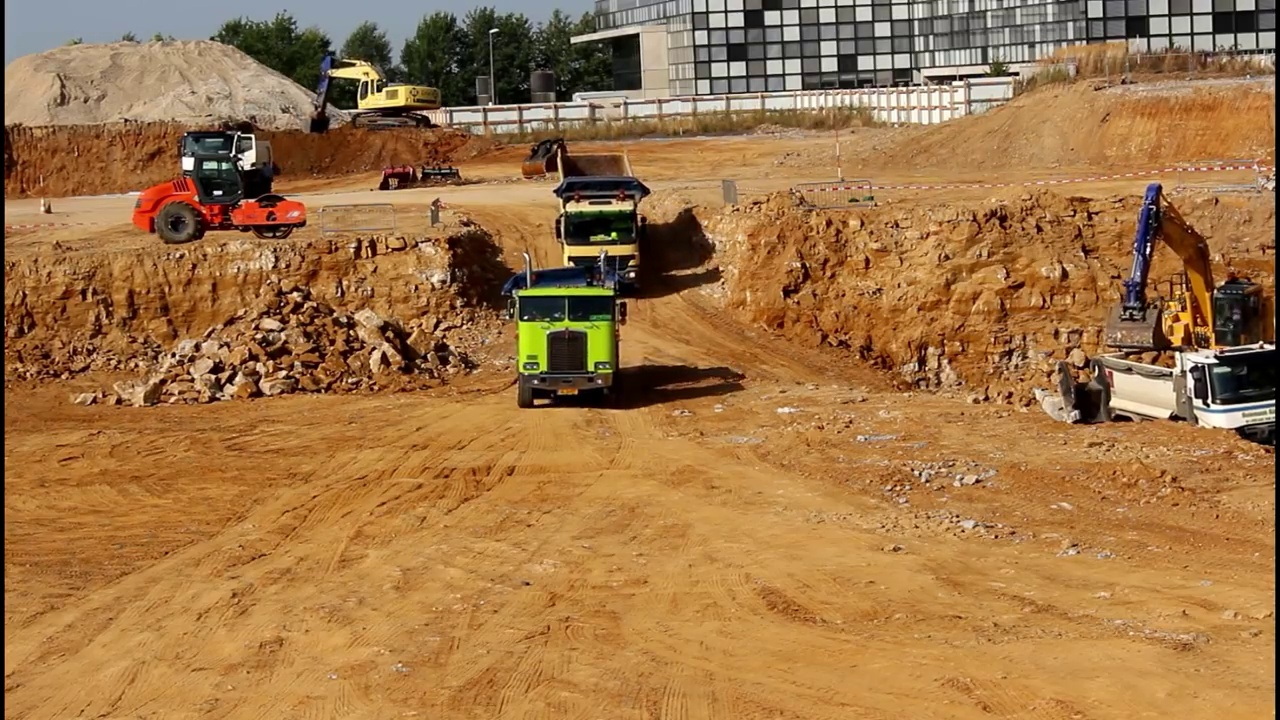compactor: (131, 158, 312, 248)
excavator: (1102, 179, 1280, 395), (305, 55, 443, 136)
truck: (1088, 338, 1280, 464), (502, 247, 633, 410), (553, 148, 651, 295), (181, 123, 282, 205)
